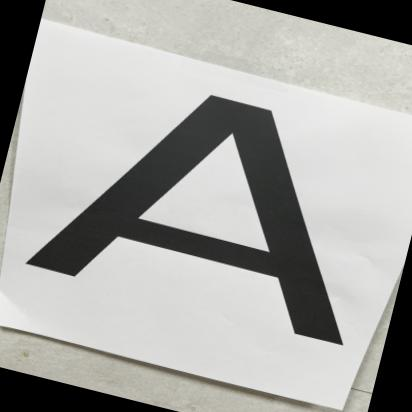seat: (10, 49, 412, 398)
